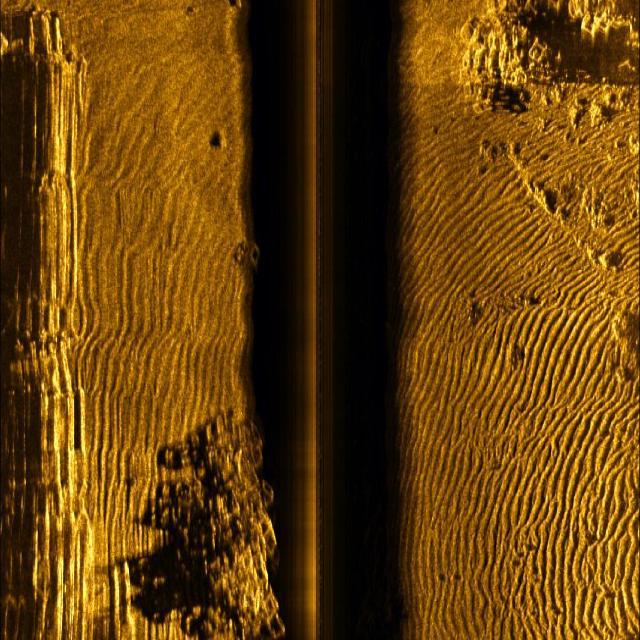artificial reef: (156, 424, 289, 640), (467, 0, 549, 111), (235, 220, 283, 295)
